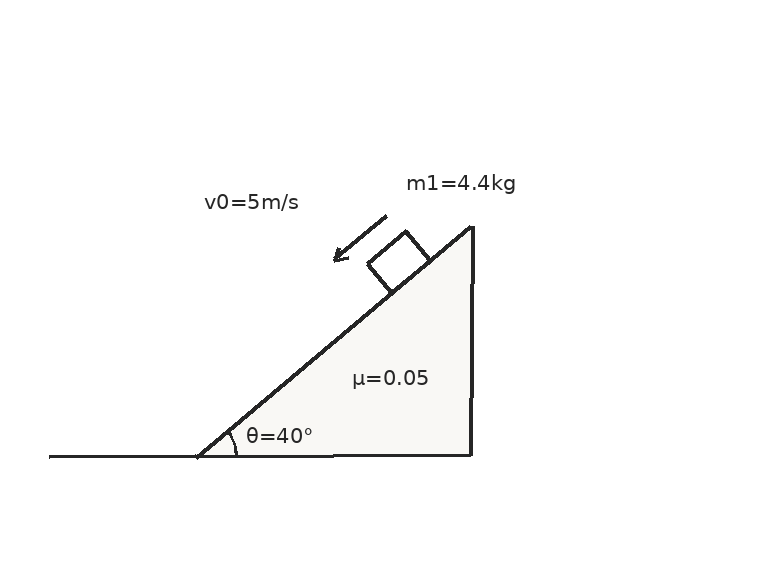block: (365, 229, 432, 294)
ramp: (194, 224, 472, 458)
